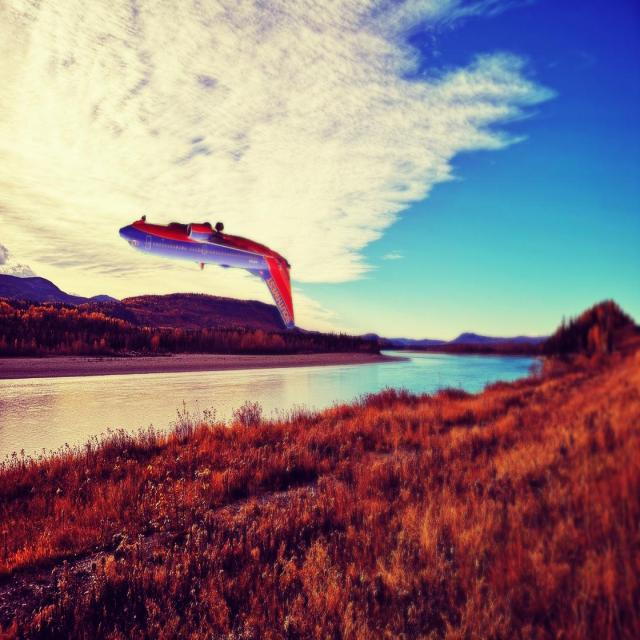airplane: (118, 214, 295, 329)
